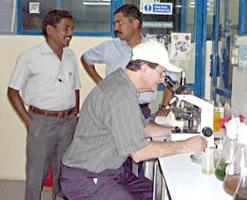person: (60, 42, 208, 200)
